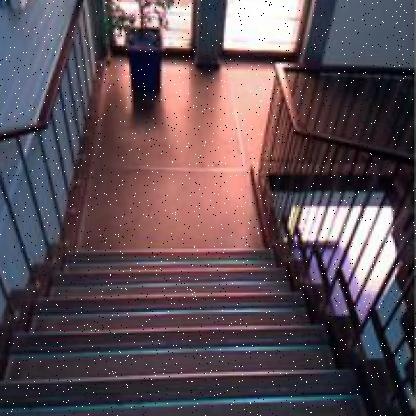stair_down: (28, 301, 344, 416)
